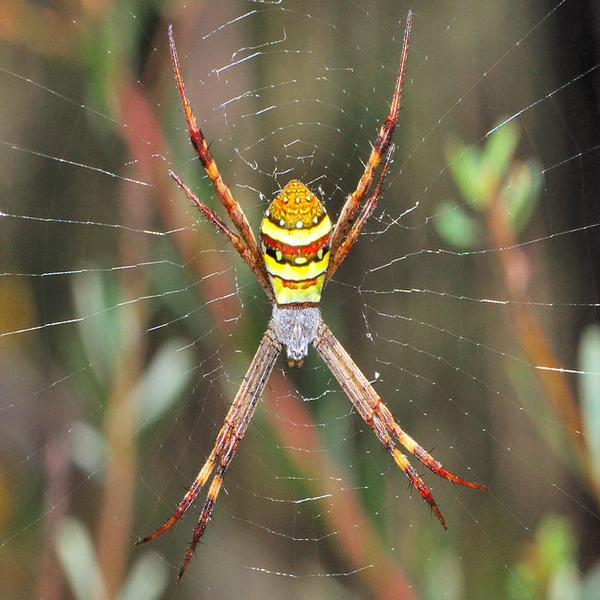St Andrew's Cross Spider: (151, 23, 478, 552)
